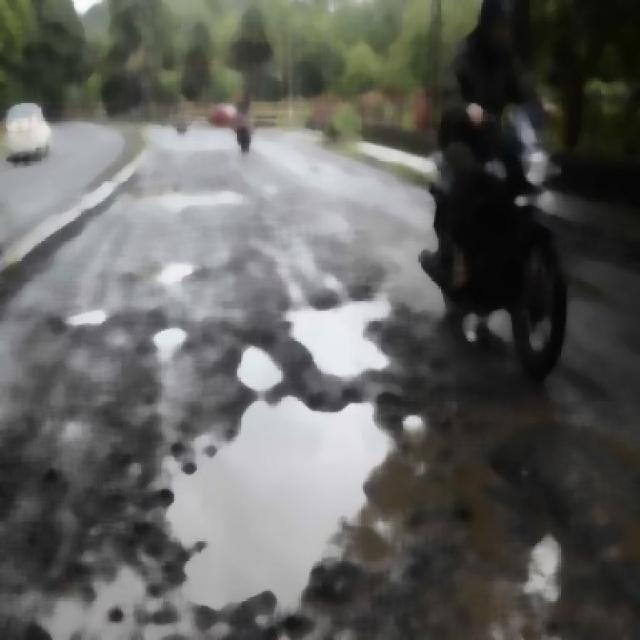Pothole: (174, 402, 481, 587), (290, 291, 405, 387), (232, 326, 302, 400), (149, 309, 197, 368)
